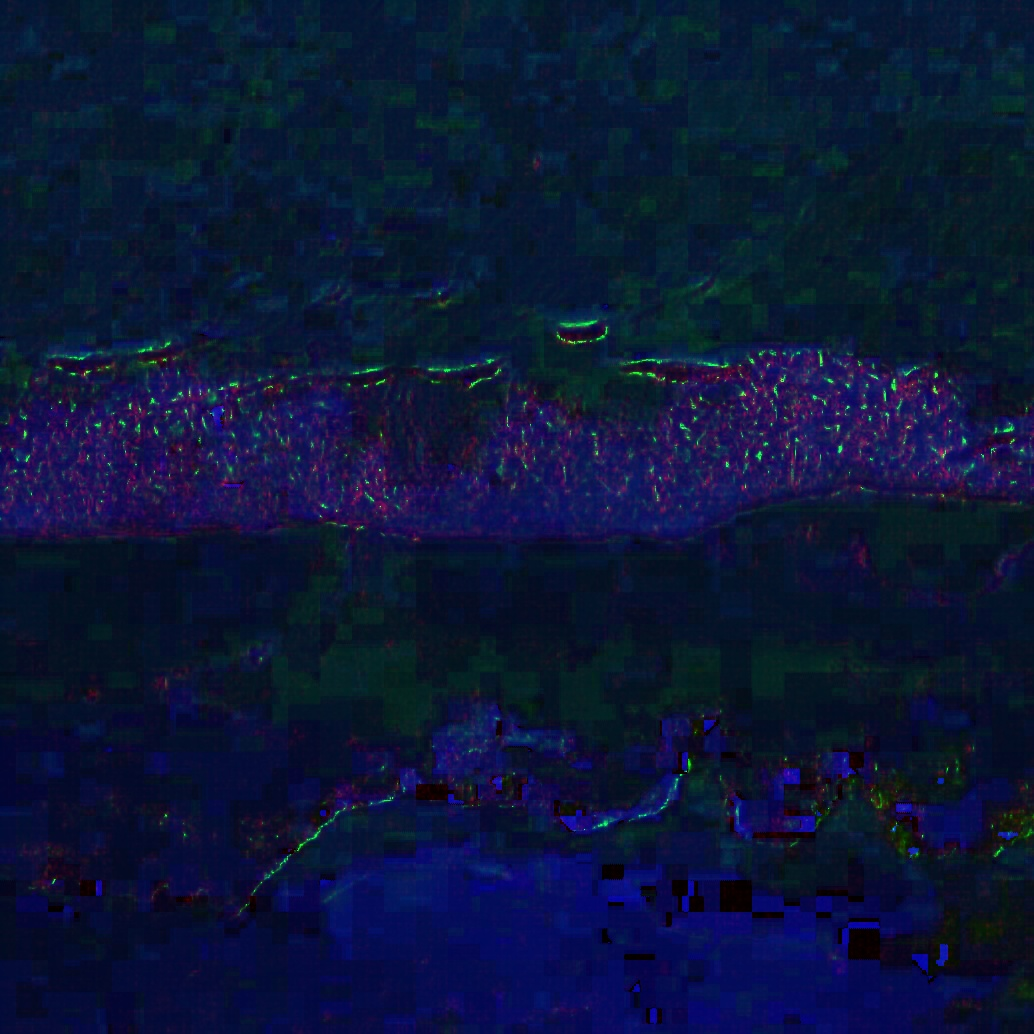rip_current: (244, 348, 440, 595)
